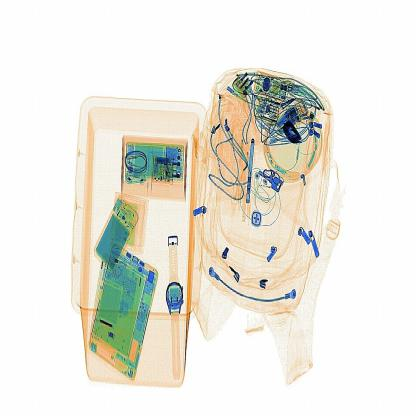scissors: (284, 121, 303, 148)
